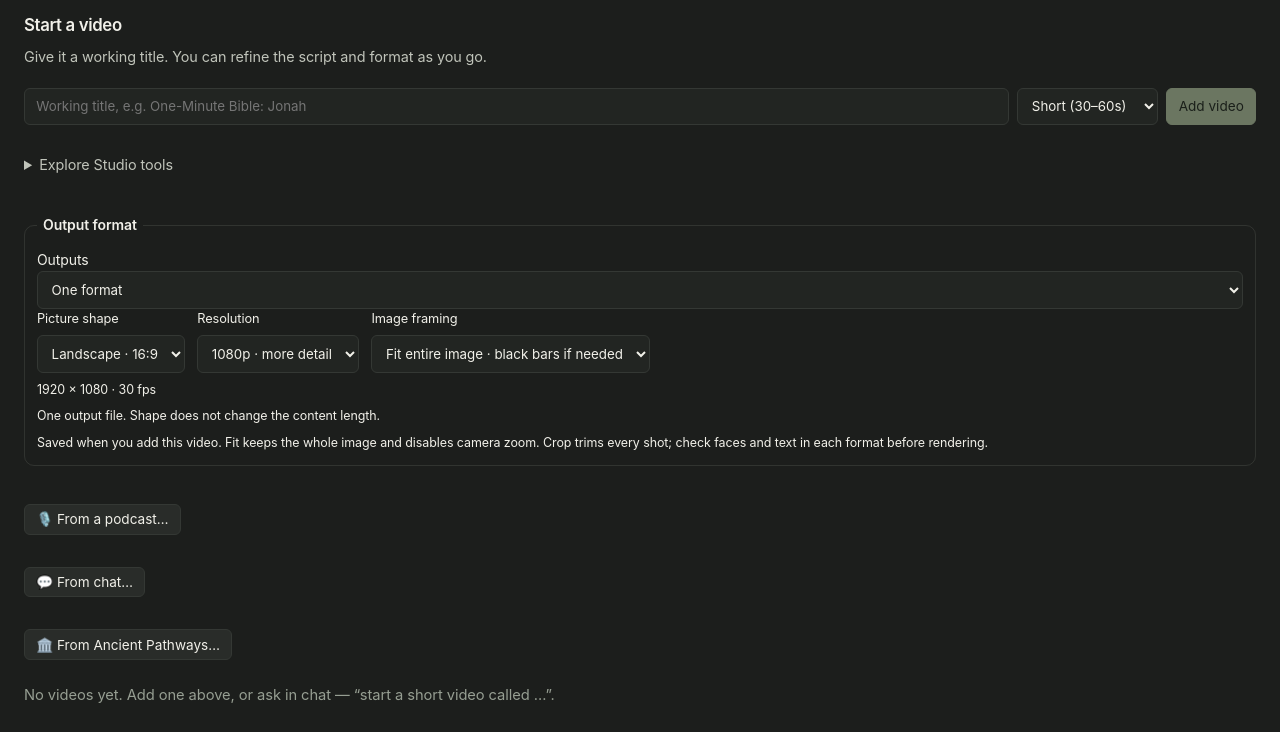
Test: Media Studio — From Ancient Pathways › displays render lock warning when another render is active
The image size is (1280, 732).
(page scrolled)
Click the button "From Ancient Pathways…" at (128, 645), box x1=24 y1=629 x2=232 y2=660
(page scrolled)
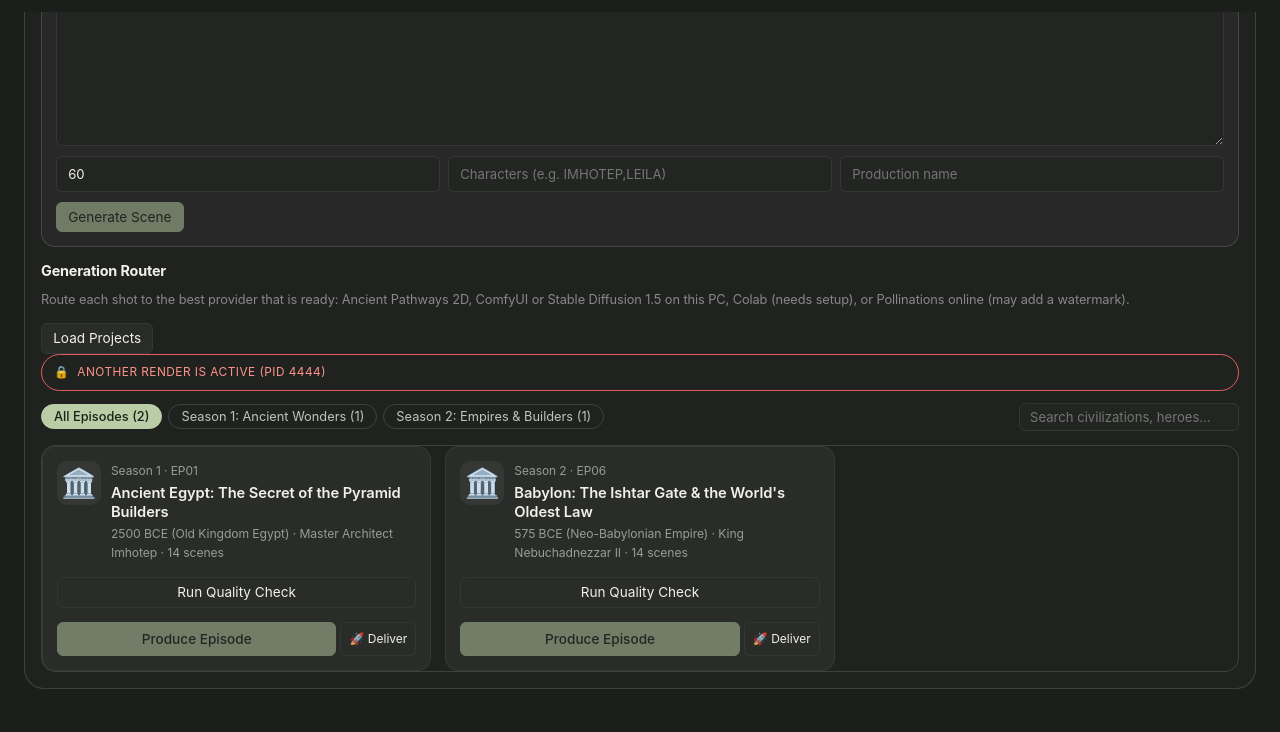
expect the text "Another render is active (PID 4444)" is shown: met, box x1=77 y1=363 x2=326 y2=382
